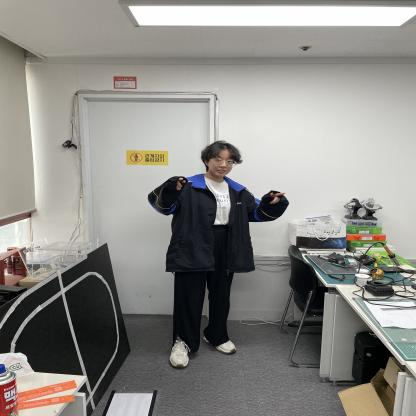normal: (146, 138, 289, 368)
